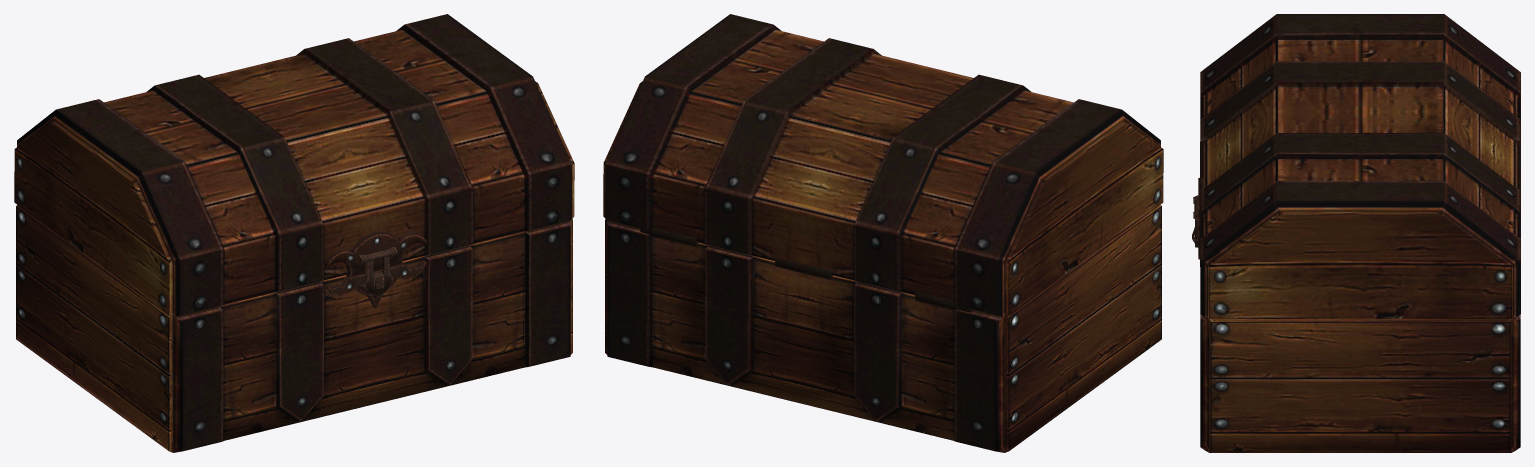
Rendered from chest.FBX.
The picture shows the model from 3 angles, left to right: view 1: azimuth 30°, elevation 25°; view 2: azimuth 150°, elevation 25°; view 3: azimuth 270°, elevation 25°; orthographic projection.
Visible parts, largest first — view 1: element3ds.com-Box_Low; view 2: element3ds.com-Box_Low; view 3: element3ds.com-Box_Low.
Part boxes in pixels (box(x1,y1,x2,y2)): element3ds.com-Box_Low: box(14, 14, 574, 452); element3ds.com-Box_Low: box(603, 14, 1163, 452); element3ds.com-Box_Low: box(1192, 14, 1520, 452).
Bounding box in the file's own units: 0.2753 × 0.1655 × 0.197.
